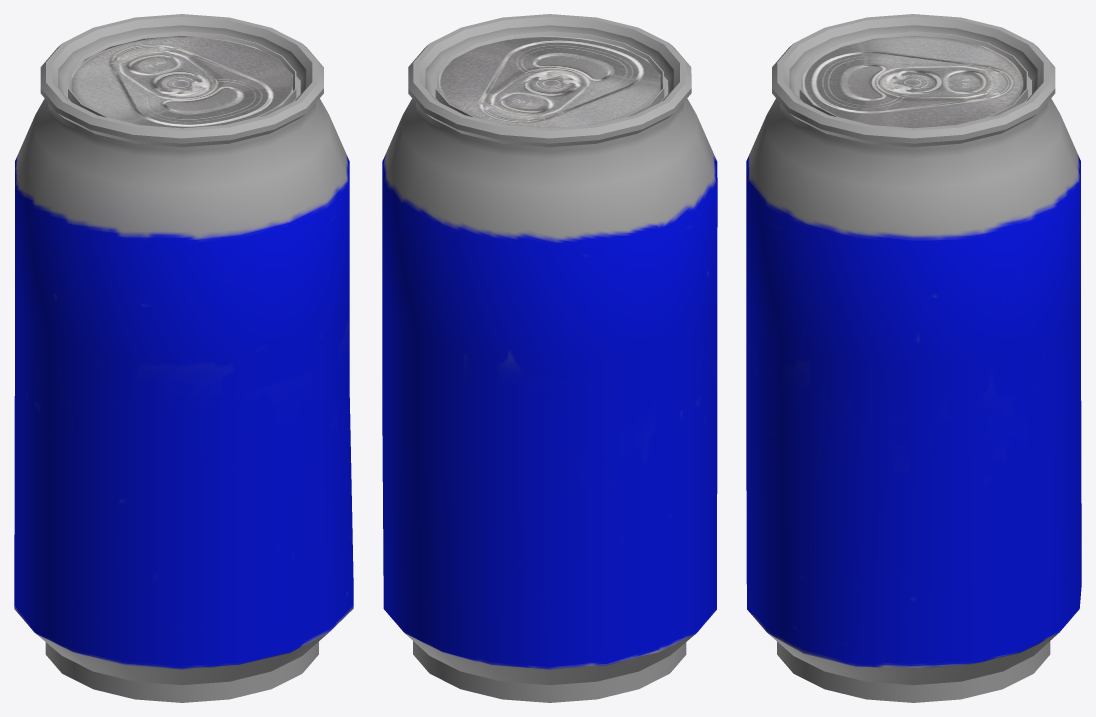
Rendered from 04 energy drink.fbx.
3 renders of one model, left to right at view 1: azimuth 30°, elevation 25°; view 2: azimuth 150°, elevation 25°; view 3: azimuth 270°, elevation 25°, orthographic.
Visible parts, largest first — view 1: Cylinder001; view 2: Cylinder001; view 3: Cylinder001.
Boxes of the visible parts, x1,y1,x2,y2 form: Cylinder001: (14,14,353,702); Cylinder001: (382,14,717,702); Cylinder001: (746,14,1081,702).
Size of the model in its own units: 21.12 by 39.17 by 20.83.
